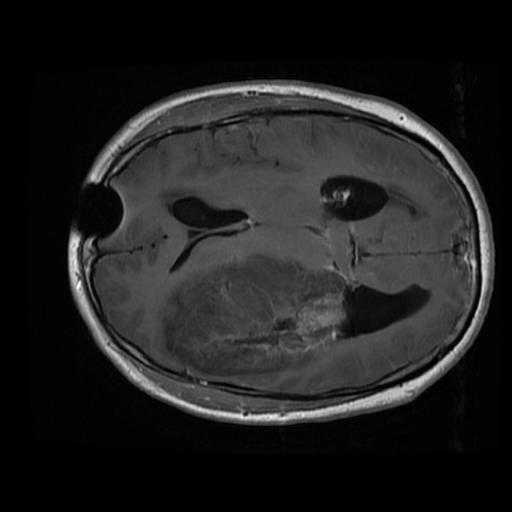glioma: (165, 256, 346, 375)
